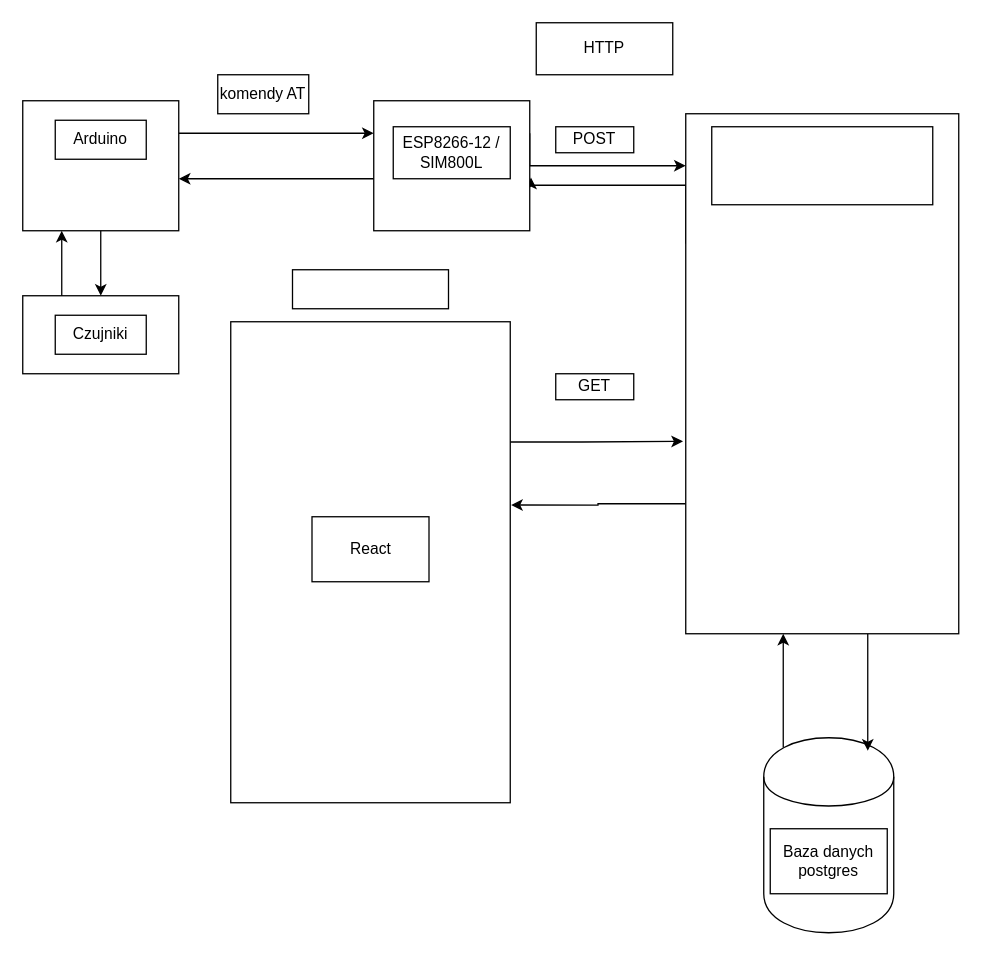
This 981x955 diagram has some shape labels left out. Here are the shapes that lost their labels. From the top down, the centre of each, then its label:
At point (821, 165): "Serwer Express".
At point (369, 288): "Front End".
